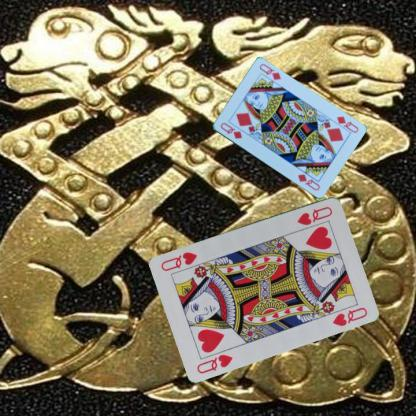Qd: (330, 113, 360, 134), (217, 120, 243, 140)
Qh: (194, 351, 234, 375), (295, 204, 334, 226)
